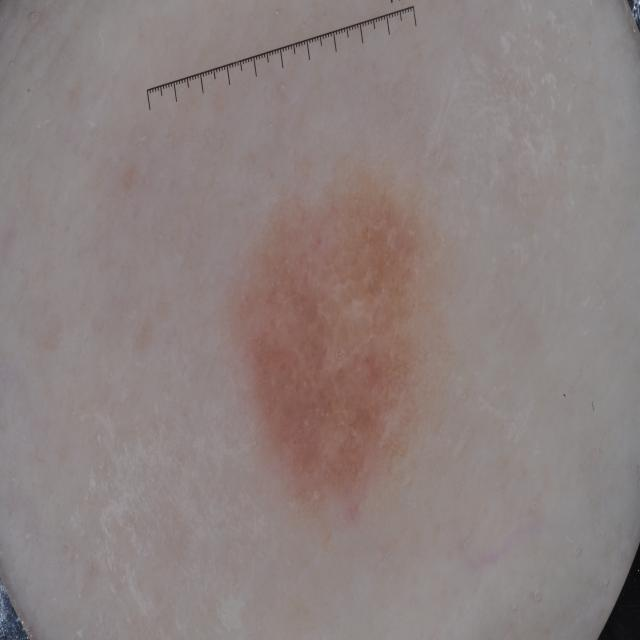Skin-Cancer Dermatofibroma: (159, 141, 549, 580)
